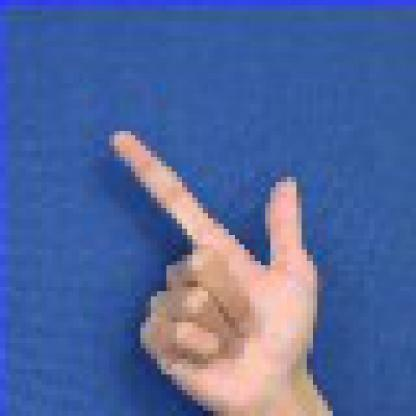seven: (98, 111, 355, 415)
